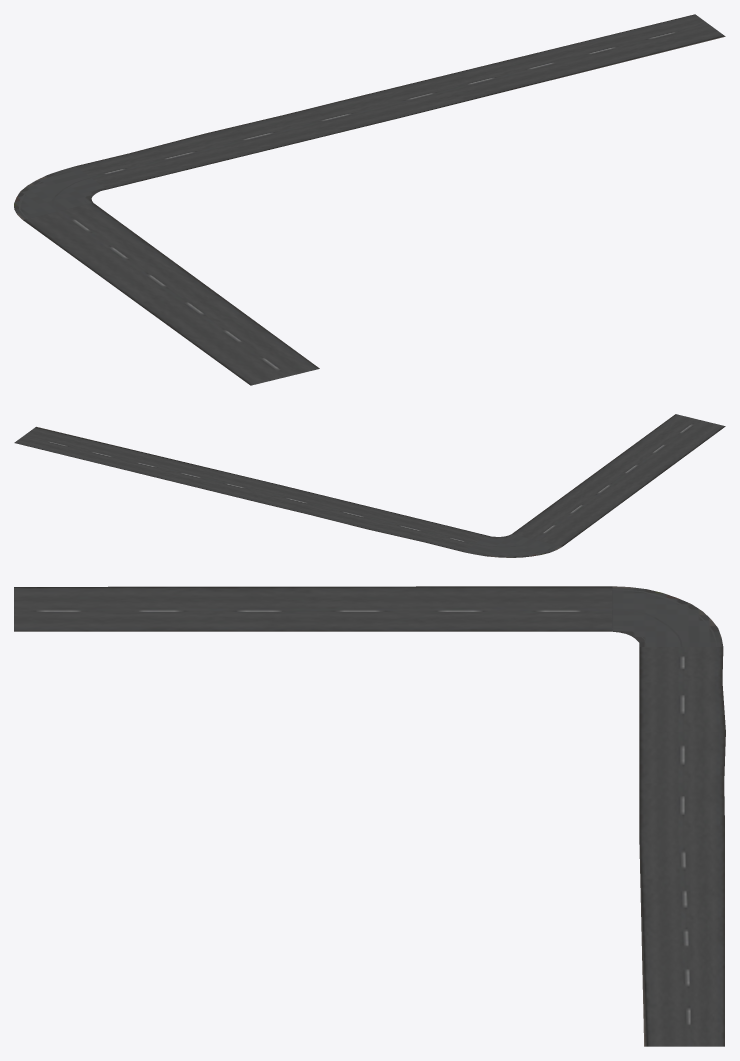
Rendered from CurvedRoadPiece.fbx.
3 renders of one model, top to bottom at view 1: azimuth 30°, elevation 25°; view 2: azimuth 150°, elevation 25°; view 3: azimuth 270°, elevation 25°, orthographic. The views are drawn at different scales.
Visible parts, largest first — view 1: polySurface447; view 2: polySurface447; view 3: polySurface447.
Part boxes in pixels (x1,y1,x2,y2): polySurface447: (14, 14, 725, 385); polySurface447: (14, 414, 725, 557); polySurface447: (14, 586, 725, 1046).
Bounding box in the file's own units: 10046 × 5.18 × 6564.
Materials: 2 (2 with a texture image).
